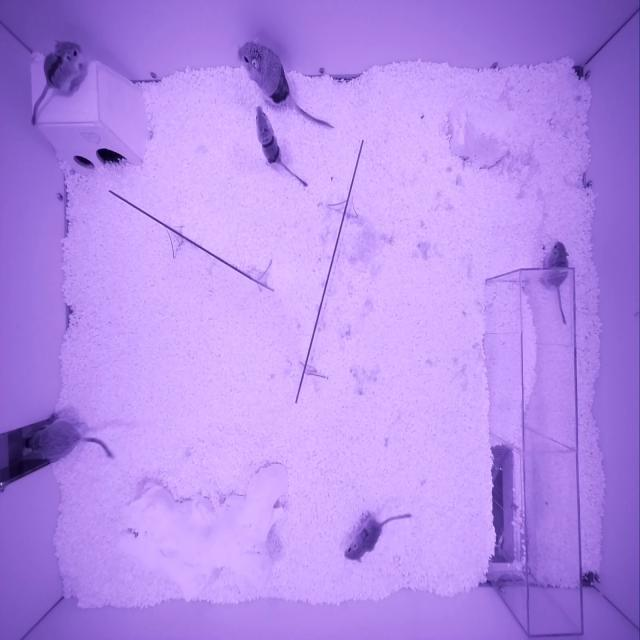adult_back: (238, 42, 290, 103)
adult_front: (27, 418, 81, 459)
pup_fluffy: (547, 241, 569, 287)
pup_h_stripe: (255, 106, 281, 165)
pup_spotted: (344, 518, 382, 562)
pup_v_stripe: (44, 42, 82, 92)
